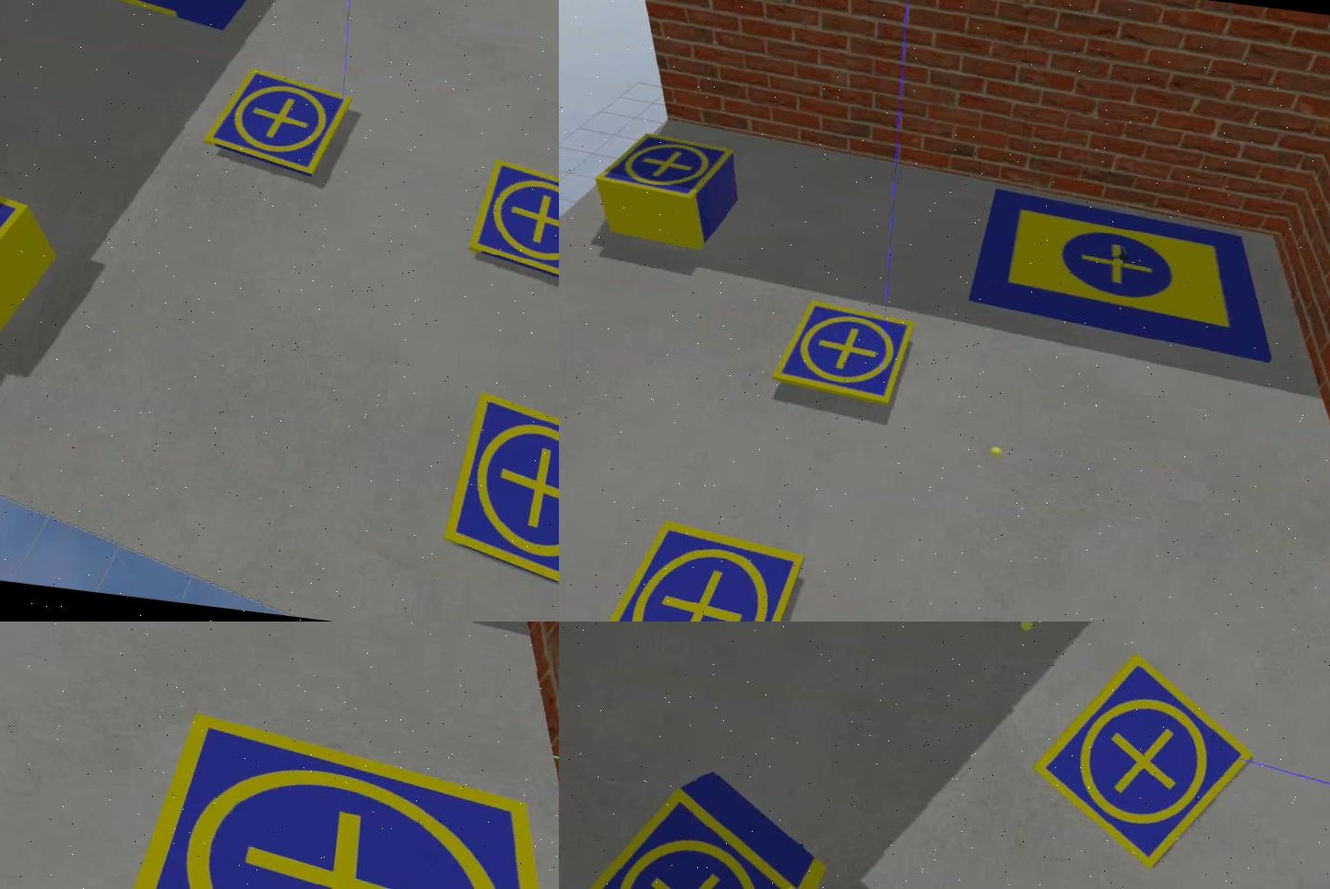large_base: (958, 190, 1284, 362), (36, 1, 335, 44)
small_base: (80, 706, 558, 889), (1023, 642, 1261, 883), (558, 772, 818, 889), (433, 389, 558, 604), (590, 512, 803, 622), (200, 67, 350, 184), (766, 299, 914, 408), (465, 160, 558, 290), (592, 130, 731, 209)
